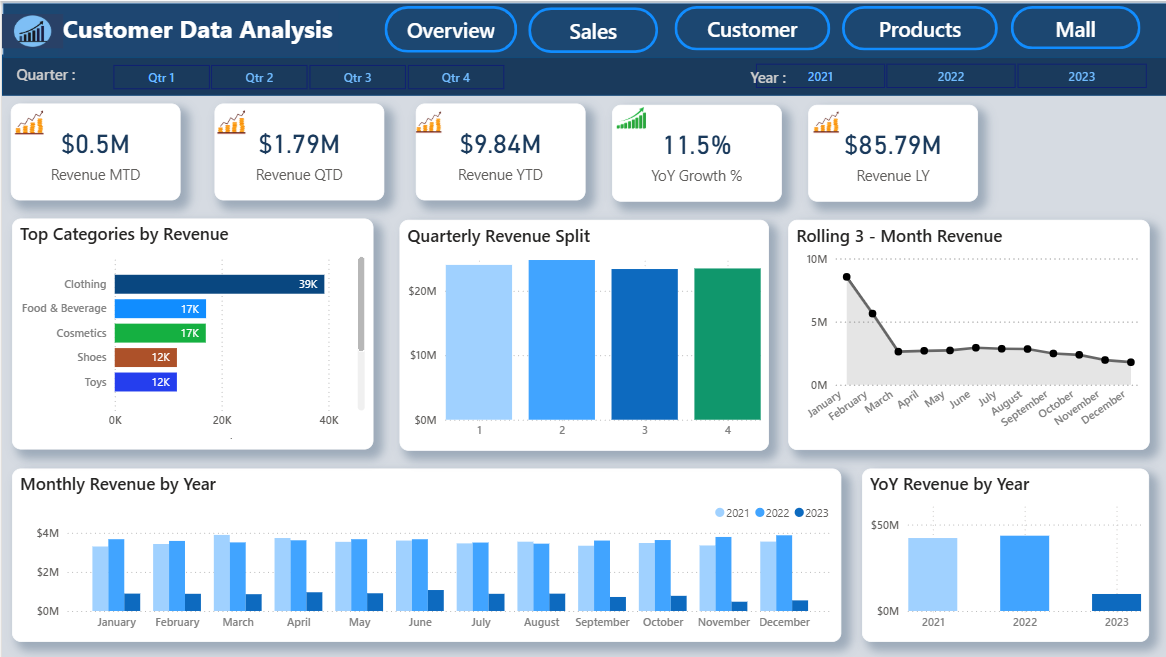

What the dashboard file says about the page in this screenshot:
{"tool":"powerbi","page":{"name":"Sales","canvas":[1280,720],"ordinal":1},"visuals":[{"type":"shape","box":[0,58.8,1280,45],"z":0},{"type":"shape","box":[0,1.3,1280.3,61.8],"z":1000},{"type":"slicer","fields":{"Values":["customer_data_analysis.Year"]},"box":[801.1,61.8,479.1,39.9],"z":2000},{"type":"slicer","fields":{"Values":["customer_data_analysis.invoice_date.Variation.Date Hierarchy.Quarter"]},"box":[96.6,63.1,479.1,39.9],"z":3000},{"type":"textbox","box":[10.3,64.4,86.3,36.1],"z":4000},{"type":"textbox","box":[812.7,67,86.3,36.1],"z":5000},{"type":"card","fields":{"Values":["customer_data_analysis.Revenue MTD"]},"box":[10,112.5,186.2,106.2],"z":6000},{"type":"card","fields":{"Values":["customer_data_analysis.Revenue QTD"]},"box":[233.8,112.5,186.2,106.2],"z":7000},{"type":"card","fields":{"Values":["customer_data_analysis.Revenue YTD"]},"box":[453.8,112.5,186.2,106.2],"z":8000},{"type":"card","fields":{"Values":["customer_data_analysis.YoY Growth %"]},"box":[670,113.8,186.2,106.2],"z":9000},{"type":"card","fields":{"Values":["customer_data_analysis.Revenue LY"]},"box":[885,113.8,186.2,106.2],"z":10000},{"type":"clusteredColumnChart","title":"Monthly Revenue  by Year","fields":{"Category":["customer_data_analysis.invoice_date.Variation.Date Hierarchy.Month"],"Y":["customer_data_analysis.Total Revenue"],"Series":["customer_data_analysis.invoice_date.Variation.Date Hierarchy.Year"]},"box":[10.3,512.6,910.6,190.6],"z":11000},{"type":"barChart","title":"Top Categories by Revenue","fields":{"Category":["customer_data_analysis.category"],"Y":["Sum(customer_data_analysis.quantity)"]},"box":[10.3,238.3,396.7,253.7],"z":12000},{"type":"columnChart","title":"YoY Revenue by Year","fields":{"Category":["customer_data_analysis.invoice_date.Variation.Date Hierarchy.Year"],"Y":["customer_data_analysis.Total Revenue"]},"box":[944.1,512.6,315.6,190.6],"z":13000},{"type":"columnChart","title":"Quarterly  Revenue Split","fields":{"Category":["customer_data_analysis.Quarter"],"Y":["customer_data_analysis.Total Revenue"]},"box":[436.6,239.6,405.7,253.7],"z":14000},{"type":"lineChart","title":" Rolling 3 - Month Revenue","fields":{"Y":["customer_data_analysis.Revenue Rolling 3M"],"Category":["customer_data_analysis.invoice_date.Variation.Date Hierarchy.Month"]},"box":[863,239.6,396.7,252.4],"z":15000},{"type":"image","box":[12.5,112.5,35,41.2],"z":16000},{"type":"image","box":[234,112.7,34.7,40.9],"z":17000},{"type":"image","box":[453.2,112.7,31,40.9],"z":18000},{"type":"image","box":[669.8,102.8,42.1,50.8],"z":19000},{"type":"image","box":[889,112.7,31,40.9],"z":20000},{"type":"textbox","box":[62.2,6.3,308.3,54.6],"z":21000},{"type":"image","box":[0,4.9,67.3,55],"z":22000},{"type":"actionButton","title":"Overview","box":[419.4,5.6,145.8,51.4],"z":23000},{"type":"actionButton","title":"Sales","box":[578.4,6.8,142.6,50.2],"z":24000},{"type":"actionButton","title":"Customer","box":[738.6,5.4,171.1,48.9],"z":25000},{"type":"actionButton","title":"Customer","box":[921.9,5.4,171.1,48.9],"z":26000},{"type":"actionButton","box":[1107.9,5.4,142.6,47.5],"z":27000}]}

Visuals, with their boxes in screenshot pixels (x1, y1, x2, y2), scaled from the page's 1280x720 canvas onto the 1166x657 screenshot:
shape: region(0, 54, 1165, 95)
shape: region(0, 1, 1165, 58)
slicer - customer_data_analysis.Year: region(730, 56, 1165, 93)
slicer - customer_data_analysis.invoice_date.Variation.Date Hierarchy.Quarter: region(88, 58, 524, 94)
textbox: region(9, 59, 88, 92)
textbox: region(740, 61, 819, 94)
card - customer_data_analysis.Revenue MTD: region(9, 103, 179, 200)
card - customer_data_analysis.Revenue QTD: region(213, 103, 383, 200)
card - customer_data_analysis.Revenue YTD: region(413, 103, 583, 200)
card - customer_data_analysis.YoY Growth %: region(610, 104, 780, 201)
card - customer_data_analysis.Revenue LY: region(806, 104, 976, 201)
"Monthly Revenue  by Year" clusteredColumnChart: region(9, 468, 839, 642)
"Top Categories by Revenue" barChart: region(9, 217, 371, 449)
"YoY Revenue by Year" columnChart: region(860, 468, 1148, 642)
"Quarterly  Revenue Split" columnChart: region(398, 219, 767, 450)
" Rolling 3 - Month Revenue" lineChart: region(786, 219, 1148, 449)
image: region(11, 103, 43, 140)
image: region(213, 103, 245, 140)
image: region(413, 103, 441, 140)
image: region(610, 94, 648, 140)
image: region(810, 103, 838, 140)
textbox: region(57, 6, 338, 56)
image: region(0, 4, 61, 55)
"Overview" actionButton: region(382, 5, 515, 52)
"Sales" actionButton: region(527, 6, 657, 52)
"Customer" actionButton: region(673, 5, 829, 50)
"Customer" actionButton: region(840, 5, 996, 50)
actionButton: region(1009, 5, 1139, 48)
